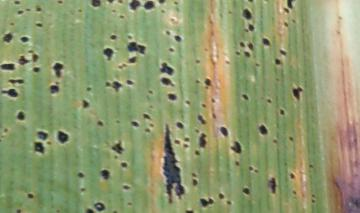tarspot: (163, 123, 185, 203), (127, 40, 146, 56), (158, 61, 174, 77), (266, 177, 279, 194), (1, 87, 20, 98), (111, 140, 125, 154), (55, 130, 70, 143), (160, 76, 176, 88), (292, 85, 303, 102), (35, 128, 49, 141), (241, 7, 253, 22), (99, 167, 111, 182), (103, 45, 114, 61), (53, 60, 62, 79), (197, 131, 207, 148), (196, 112, 208, 126), (230, 141, 242, 154), (111, 79, 122, 93), (199, 197, 214, 207), (257, 124, 269, 136), (143, 1, 156, 12), (32, 142, 45, 153), (240, 184, 251, 197), (219, 123, 229, 137), (8, 77, 25, 85), (1, 62, 16, 71), (128, 117, 140, 128), (94, 202, 106, 213), (3, 31, 13, 44), (18, 54, 29, 65), (260, 35, 271, 46), (128, 1, 141, 10), (166, 92, 179, 101), (16, 110, 26, 121), (81, 97, 90, 109), (203, 76, 212, 88), (128, 54, 138, 64), (246, 41, 256, 51), (49, 84, 60, 93), (118, 160, 129, 169), (120, 183, 132, 191), (173, 34, 183, 43), (278, 47, 288, 56), (273, 55, 281, 66), (20, 35, 29, 44), (246, 23, 255, 32), (31, 53, 39, 63), (31, 65, 41, 73), (141, 112, 151, 120), (124, 78, 134, 86), (191, 177, 199, 187), (145, 87, 155, 95), (176, 121, 185, 129), (241, 93, 250, 101), (190, 169, 197, 179), (173, 137, 181, 145), (199, 101, 207, 109), (282, 6, 290, 14), (92, 1, 101, 8), (26, 192, 35, 199), (109, 33, 118, 40), (144, 126, 151, 135), (194, 148, 201, 157), (210, 96, 217, 105), (279, 107, 286, 116), (283, 20, 290, 29), (286, 1, 295, 8), (35, 21, 43, 28), (96, 119, 103, 127), (289, 171, 296, 179), (217, 192, 225, 199), (167, 46, 175, 53), (164, 29, 172, 36), (238, 39, 245, 47), (125, 200, 133, 207), (224, 58, 231, 66), (227, 8, 234, 16), (26, 48, 35, 54), (25, 5, 32, 12), (308, 162, 315, 169), (194, 78, 201, 85), (272, 137, 279, 144), (16, 9, 24, 15), (77, 172, 85, 178), (86, 207, 94, 213), (110, 7, 118, 13), (211, 111, 217, 119), (185, 98, 191, 106), (161, 7, 167, 15), (13, 1, 22, 6), (243, 52, 252, 57), (79, 186, 86, 192), (119, 13, 126, 19), (86, 86, 93, 92), (117, 63, 123, 70), (310, 192, 317, 198), (248, 166, 255, 172), (195, 58, 202, 64), (266, 97, 272, 104), (255, 62, 261, 69), (274, 76, 281, 82), (7, 21, 15, 26), (127, 32, 132, 40), (36, 6, 42, 12), (115, 118, 121, 124), (227, 200, 233, 206), (184, 136, 190, 142), (288, 135, 294, 141), (3, 126, 8, 133), (76, 8, 83, 13), (106, 80, 111, 87), (292, 188, 297, 195), (255, 167, 260, 174), (235, 160, 240, 167), (182, 143, 189, 148), (173, 1, 180, 6), (169, 17, 176, 22), (310, 198, 316, 203), (156, 1, 166, 4), (235, 51, 241, 56), (148, 104, 154, 109), (186, 209, 193, 213), (16, 208, 21, 213), (114, 155, 119, 160), (55, 1, 63, 4), (108, 1, 115, 4), (118, 1, 124, 4), (112, 210, 118, 213), (247, 1, 253, 3)
